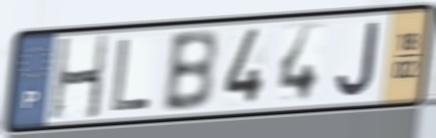4: (277, 20, 322, 105), (221, 24, 265, 108)
B: (159, 26, 220, 115)
H: (49, 32, 110, 123)
J: (334, 19, 381, 99)
L: (108, 36, 153, 115)
